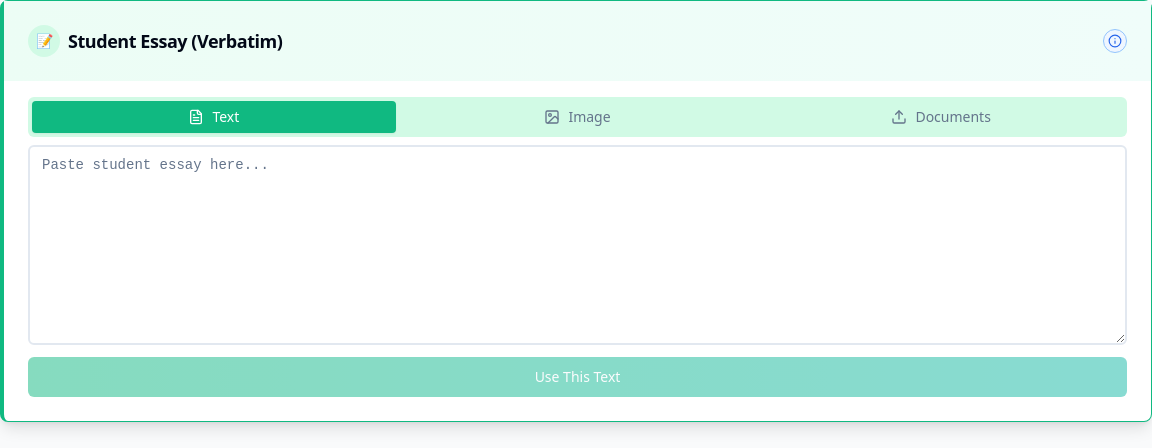
Test: VerbatimViewer Component › Image Tab › should show image upload area
Click the tab "Image": x=578, y=117 [396,101,759,133]
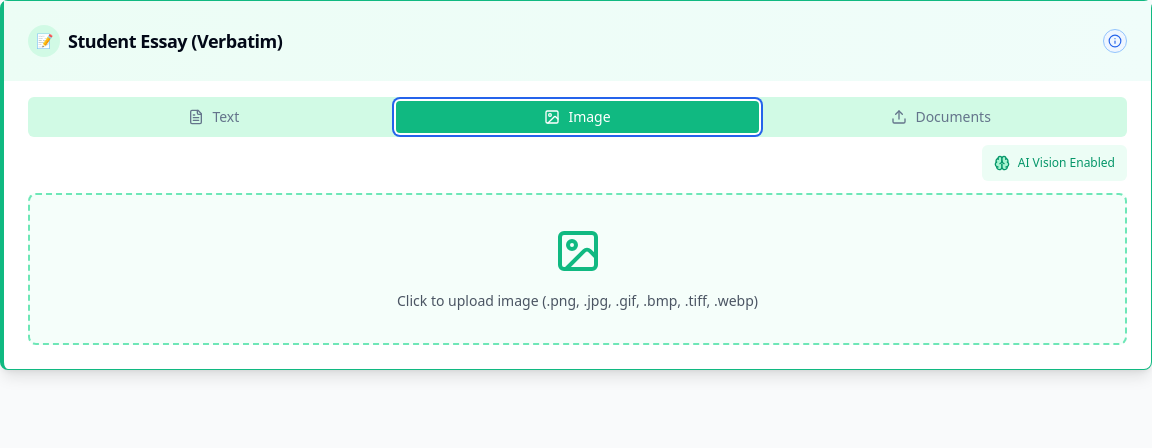
Check: the text "Click to upload image (.png, .jpg, .gif, .bmp, .tiff, .webp)" is shown, box [397,291,758,310]
